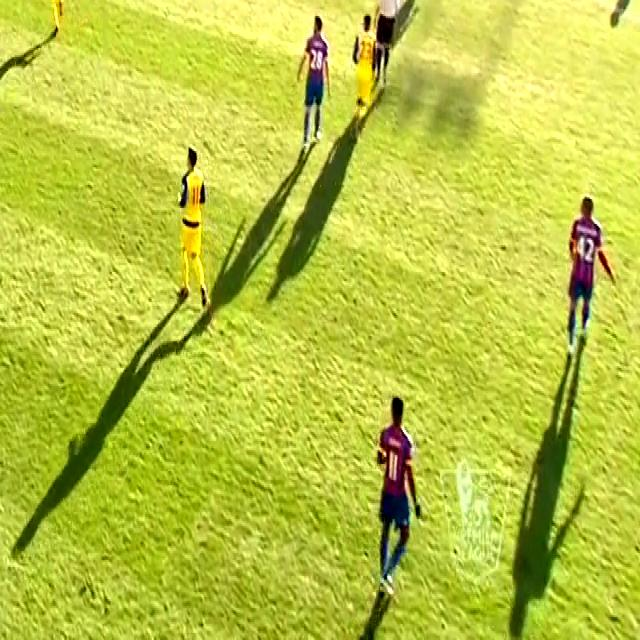referee: (372, 0, 400, 82)
soccer-player: (360, 393, 427, 594), (561, 187, 626, 346), (170, 141, 220, 310), (292, 11, 336, 149), (346, 12, 386, 118), (32, 0, 74, 37), (0, 0, 3, 132)
